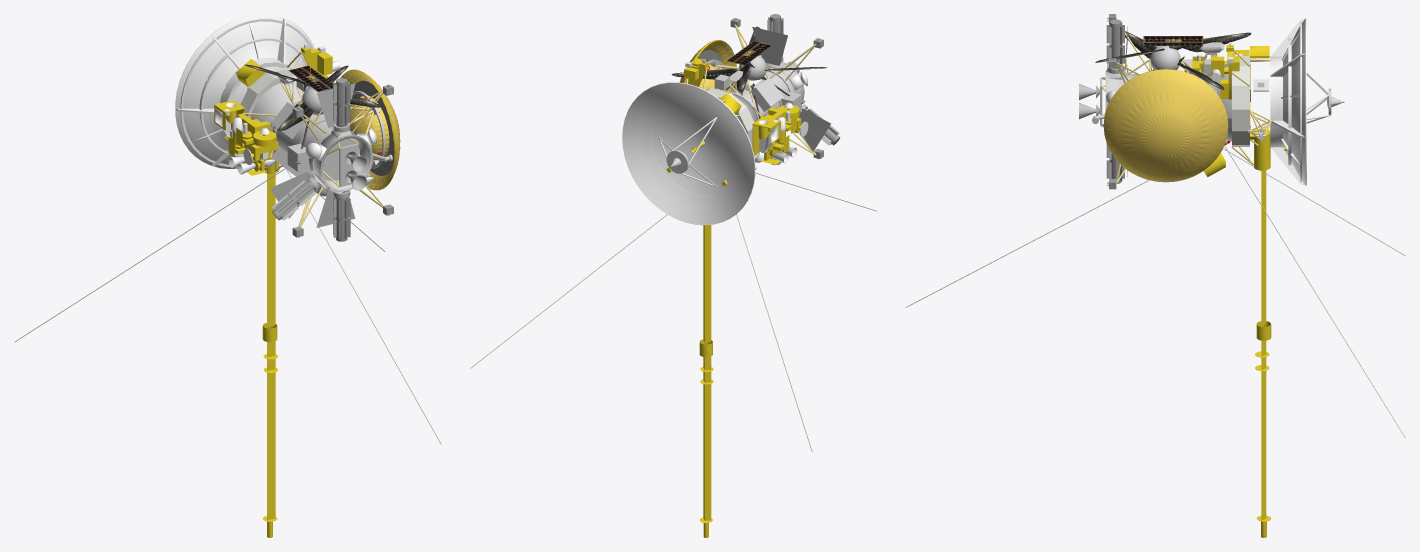
Rendered from Cassini.glb.
3 views of the same model, side by side, from view 1: azimuth 30°, elevation 25°; view 2: azimuth 150°, elevation 25°; view 3: azimuth 270°, elevation 25° (orthographic). The views are drawn at different scales.
Visible parts, largest first — view 1: mesh45_whitedish_0, solar_panel; view 2: mesh45_whitedish_0, solar_panel; view 3: mesh45_whitedish_0, rotors_01, solar_panel.
Boxes of the visible parts, x1,y1,x2,y2 form: mesh45_whitedish_0: (14,14,441,537); solar_panel: (288,65,332,91); mesh45_whitedish_0: (470,14,876,537); solar_panel: (727,41,771,65); mesh45_whitedish_0: (905,14,1405,537); rotors_01: (1095,32,1251,62); solar_panel: (1143,36,1203,45).
Size of what is drawn, in the model's own units: 3.06 by 4.03 by 3.55.
22 materials, 4 textured.
